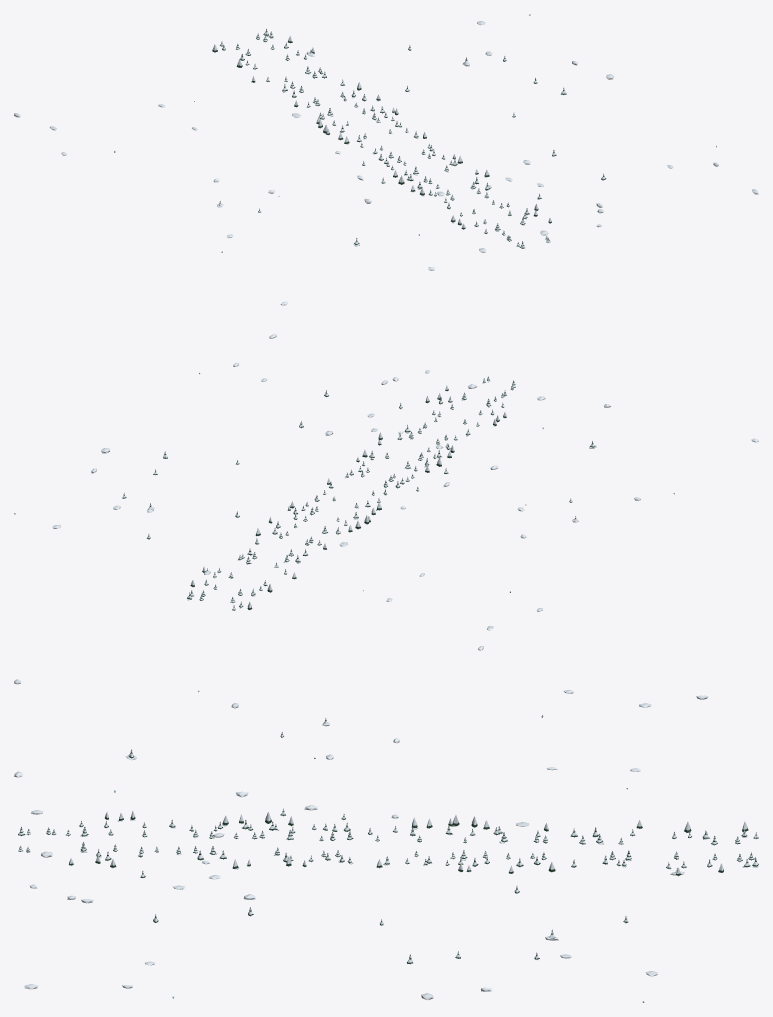
The model's file is Fill_-2_-5.fbx.
3 views of the same model, one above another, from view 1: azimuth 30°, elevation 25°; view 2: azimuth 150°, elevation 25°; view 3: azimuth 270°, elevation 25° (orthographic). The views are drawn at different scales.
Visible parts, largest first — view 1: Fill_-2_-5; view 2: Fill_-2_-5; view 3: Fill_-2_-5.
Part boxes in pixels (x1,y1,x2,y2): Fill_-2_-5: [14, 14, 758, 305]; Fill_-2_-5: [14, 334, 758, 650]; Fill_-2_-5: [14, 679, 758, 1002].
Size of the model in its own units: 57673 by 1918 by 58847.
